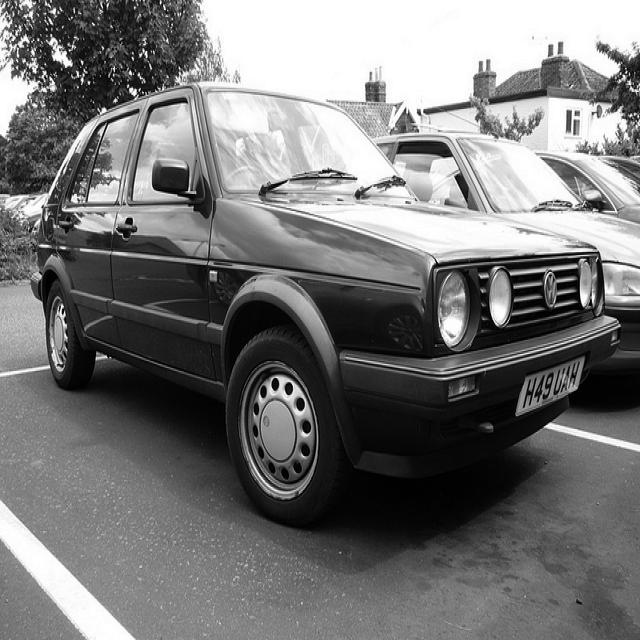car: (29, 81, 621, 525), (370, 130, 639, 381)
plat_license: (514, 353, 586, 416)
